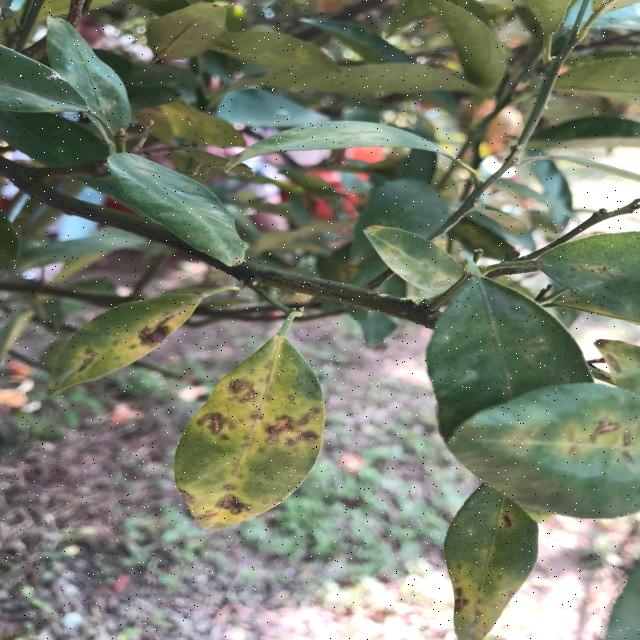canker: (179, 344, 332, 525), (58, 294, 200, 384), (501, 398, 640, 482), (450, 499, 523, 640), (369, 226, 458, 292), (248, 124, 391, 157), (564, 256, 622, 296)
